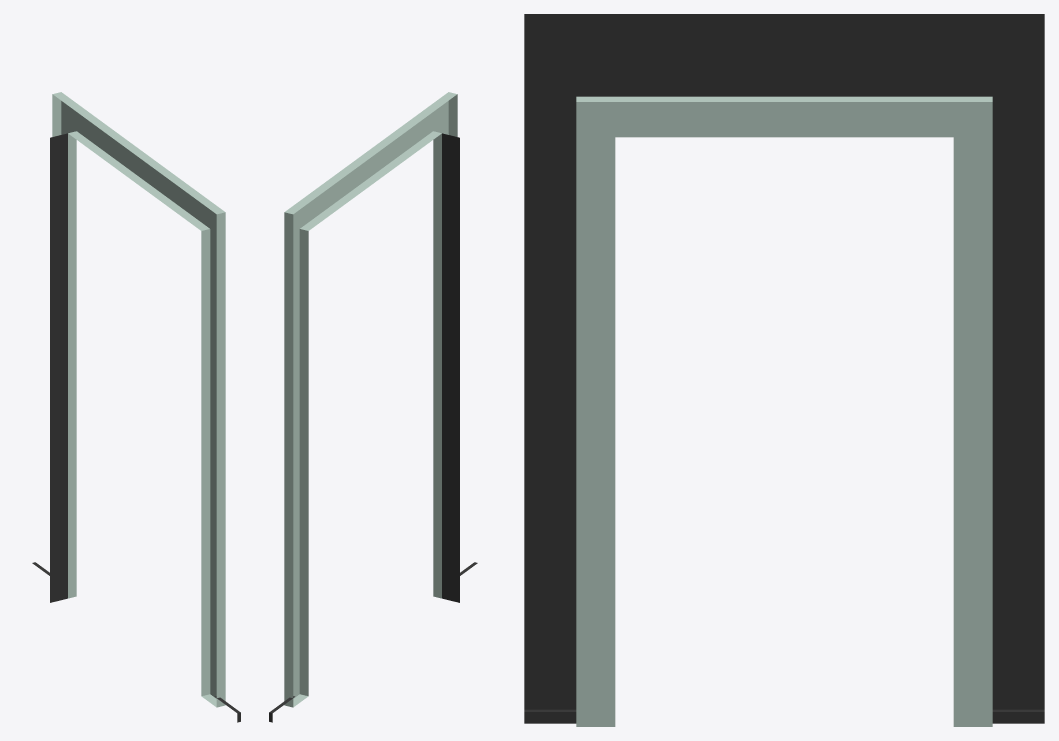
File: Wall_2m_Doorway.FBX
3 views of the same model, side by side, from view 1: azimuth 30°, elevation 25°; view 2: azimuth 150°, elevation 25°; view 3: azimuth 270°, elevation 25° (orthographic). The views are drawn at different scales.
Visible parts, largest first — view 1: Wall_2m_Doorway; view 2: Wall_2m_Doorway; view 3: Wall_2m_Doorway.
Part boxes in pixels (x1,y1,x2,y2): Wall_2m_Doorway: (32, 92, 240, 722); Wall_2m_Doorway: (269, 92, 477, 722); Wall_2m_Doorway: (524, 14, 1044, 726).
Size of the model in its own units: 15 by 200 by 300.
